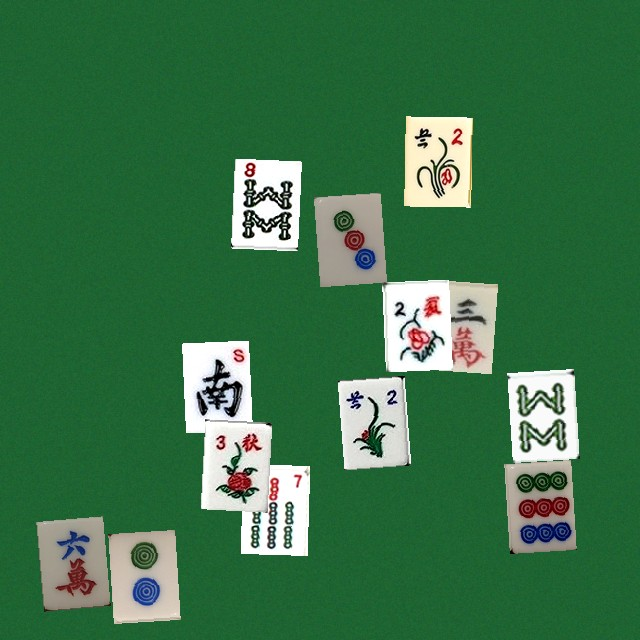tile: (507, 369, 574, 459), (182, 340, 249, 430), (313, 192, 380, 282), (424, 279, 491, 369), (404, 116, 471, 206), (240, 463, 307, 553), (36, 516, 103, 606), (231, 158, 298, 248), (504, 459, 571, 549), (200, 419, 267, 509), (382, 279, 449, 369), (337, 375, 404, 465), (108, 529, 175, 619)
